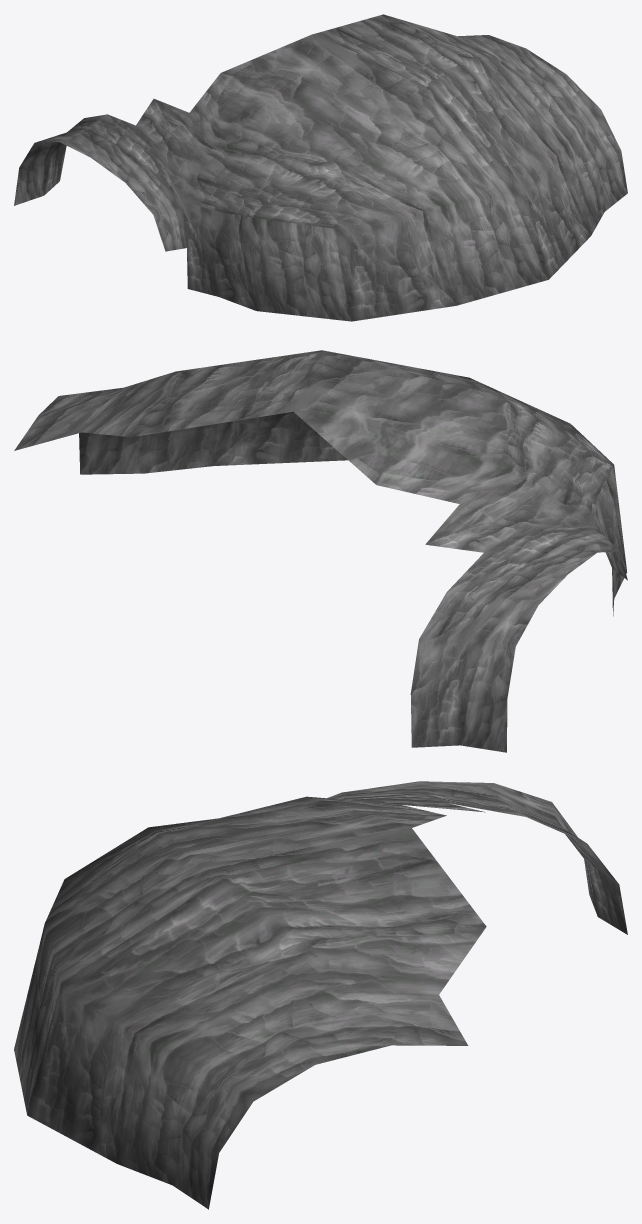
The model's file is SWORDLIGHT20_PS-AREA02_05.fbx.
The picture shows the model from 3 angles, top to bottom: view 1: azimuth 30°, elevation 25°; view 2: azimuth 150°, elevation 25°; view 3: azimuth 270°, elevation 25°; orthographic projection. The views are drawn at different scales.
Parts seen in each view (by area): view 1: SWORDLIGHT20_PS-AREA02_05; view 2: SWORDLIGHT20_PS-AREA02_05; view 3: SWORDLIGHT20_PS-AREA02_05.
Part boxes in pixels (x1,y1,x2,y2): SWORDLIGHT20_PS-AREA02_05: [14, 14, 627, 321]; SWORDLIGHT20_PS-AREA02_05: [14, 350, 627, 752]; SWORDLIGHT20_PS-AREA02_05: [14, 781, 627, 1209].
Bounding box in the file's own units: 151264 × 50282 × 124866.
Materials: 1 (1 with a texture image).
